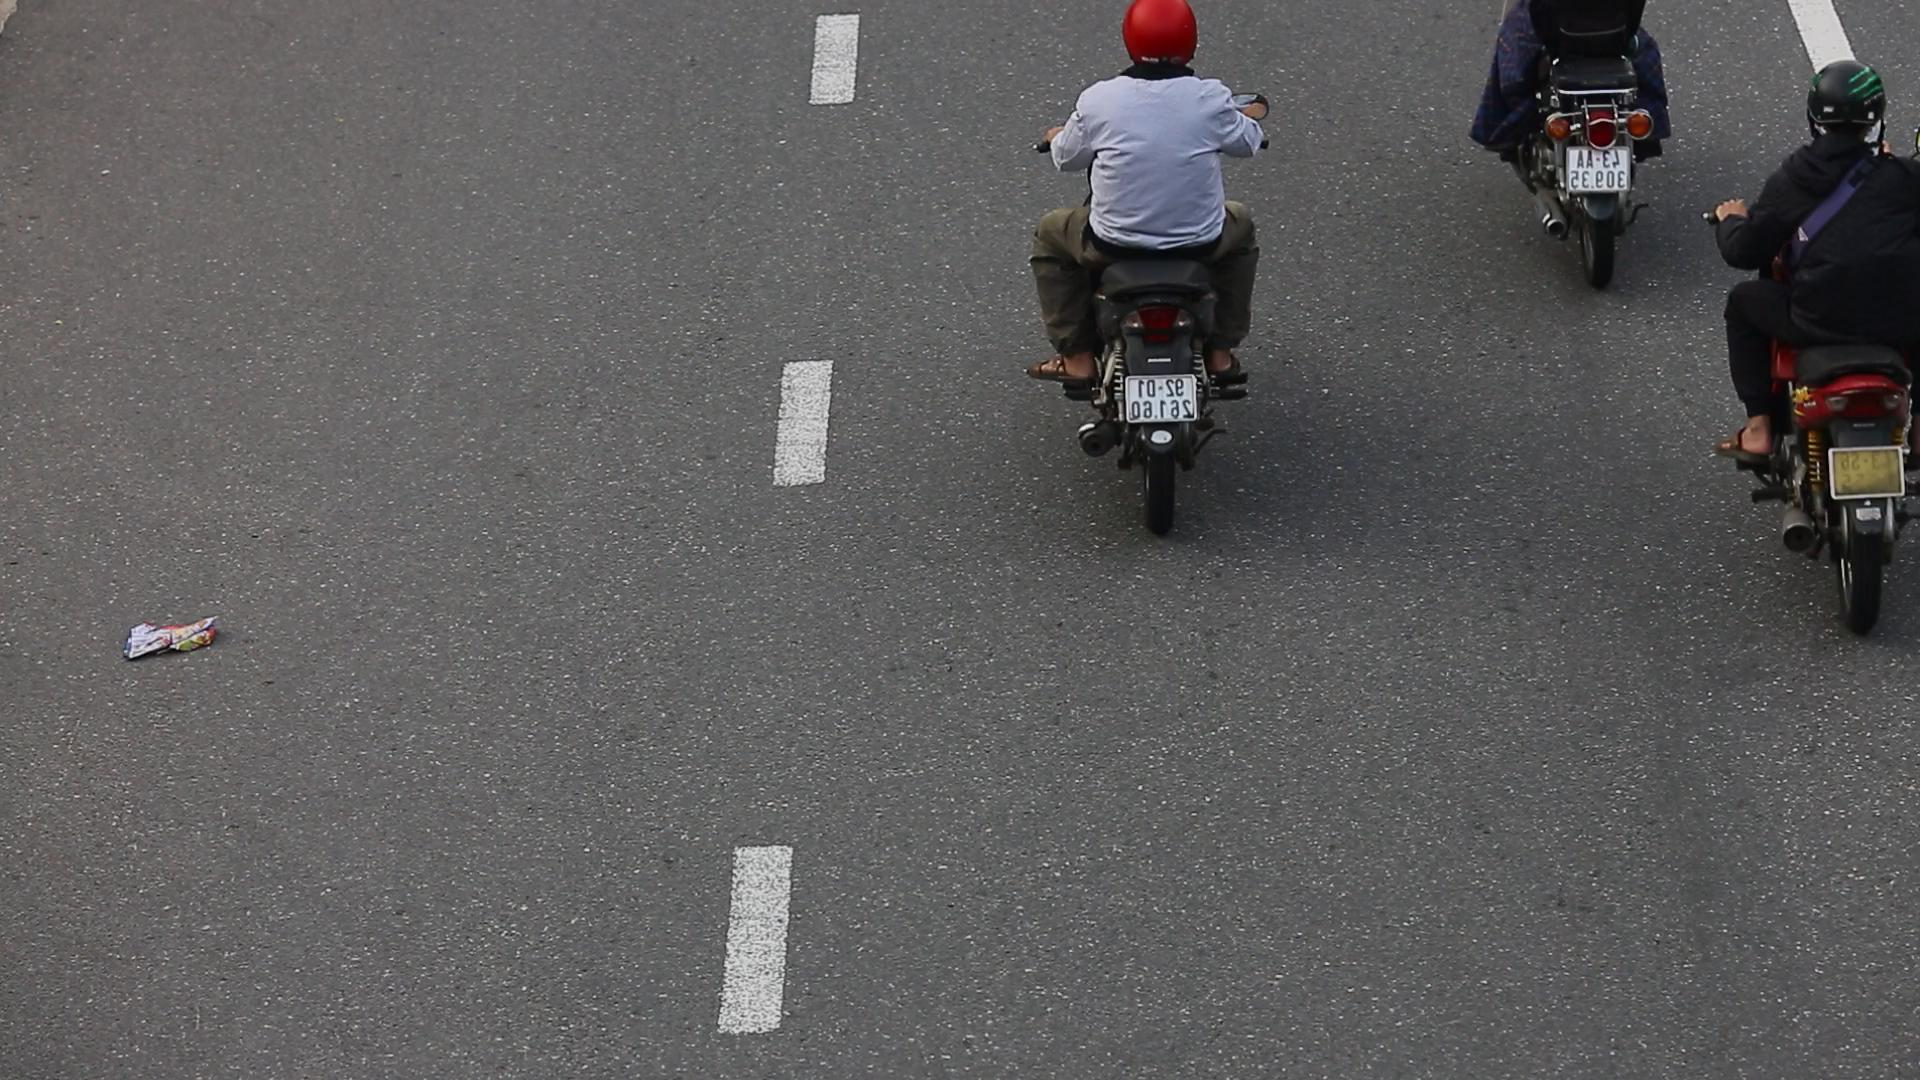motobike: (1011, 1, 1273, 549), (1701, 58, 1920, 651)
